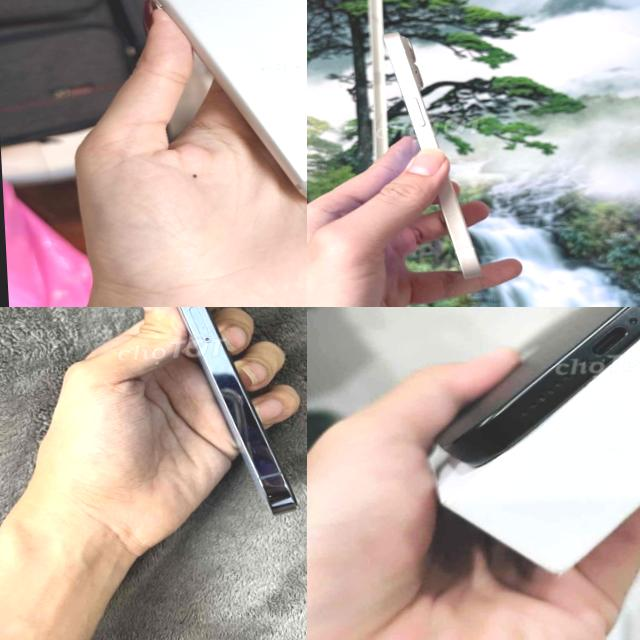gen_12_13: (110, 307, 307, 534)
gen_14: (368, 27, 497, 293)
gen_16: (409, 307, 640, 468)
gen_6: (90, 0, 307, 207)
